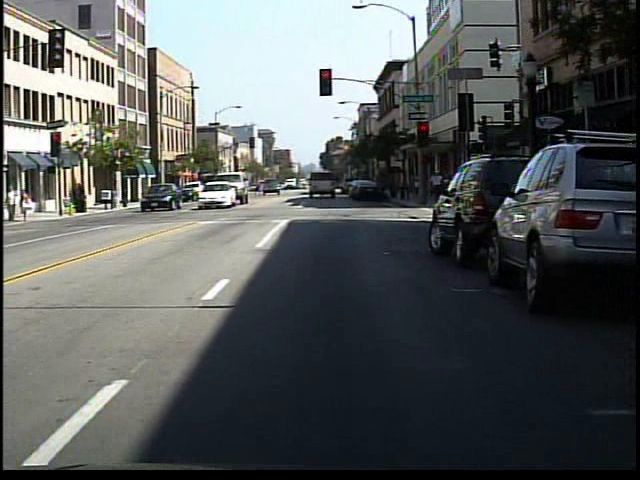person: (9, 183, 27, 226), (427, 166, 446, 206), (17, 185, 36, 222)
